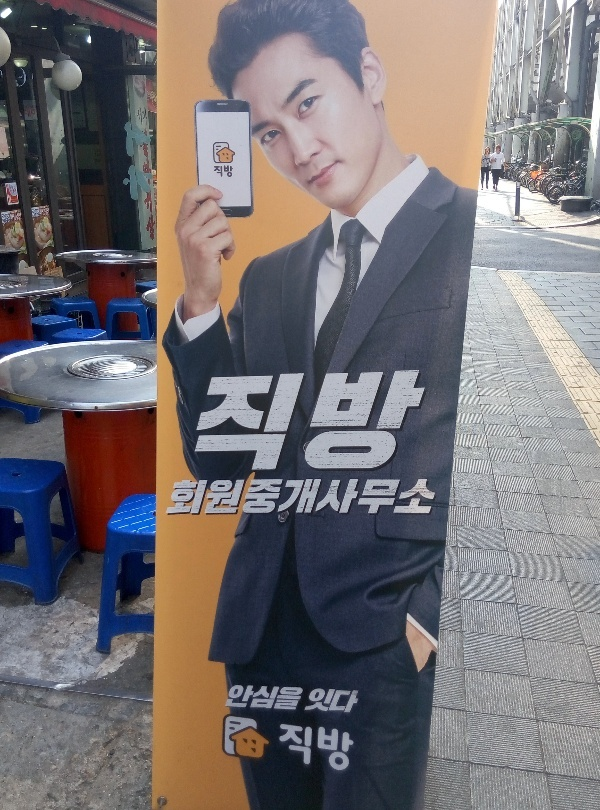text: (225, 370, 240, 474), (241, 370, 256, 474), (257, 370, 272, 474), (273, 370, 288, 474), (289, 370, 304, 474), (305, 370, 320, 474), (321, 370, 336, 474), (337, 370, 352, 474), (353, 370, 368, 474), (369, 370, 384, 474), (385, 370, 400, 474), (401, 370, 416, 474), (417, 370, 432, 474), (210, 370, 224, 474), (129, 121, 144, 204), (145, 121, 157, 204), (289, 723, 304, 773), (305, 723, 320, 773), (321, 723, 336, 773), (337, 723, 352, 773), (119, 121, 128, 204), (177, 475, 192, 517), (193, 475, 208, 517), (209, 475, 224, 517), (225, 475, 240, 517), (241, 475, 256, 517), (257, 475, 272, 517), (273, 475, 288, 517), (289, 475, 304, 517), (305, 475, 320, 517), (321, 475, 336, 517), (337, 475, 352, 517), (353, 475, 368, 517), (369, 475, 384, 517), (385, 475, 400, 517), (401, 475, 416, 517), (417, 475, 432, 517), (241, 683, 256, 710), (257, 683, 272, 710), (273, 683, 288, 710), (289, 683, 304, 710), (280, 723, 288, 773), (321, 688, 336, 713), (337, 688, 352, 713), (71, 91, 80, 129), (150, 210, 160, 243), (433, 475, 439, 517), (147, 140, 160, 158), (353, 688, 362, 713), (232, 683, 240, 710), (312, 688, 320, 713), (147, 90, 160, 105), (145, 191, 153, 215), (137, 106, 144, 128), (146, 127, 160, 137), (145, 156, 152, 174), (2, 215, 16, 224), (214, 166, 224, 178), (81, 91, 84, 129), (433, 370, 434, 474), (353, 723, 355, 773), (5, 214, 16, 223), (225, 166, 233, 178), (24, 105, 32, 117), (148, 178, 160, 185), (97, 148, 102, 164), (40, 208, 48, 217), (145, 106, 148, 128), (92, 109, 96, 125), (33, 209, 40, 218), (9, 184, 16, 193), (10, 212, 16, 222), (17, 212, 22, 222), (33, 105, 36, 117), (94, 148, 96, 164), (143, 191, 144, 215), (143, 156, 144, 174), (97, 109, 98, 125), (13, 188, 16, 193), (12, 198, 16, 201), (49, 208, 50, 217), (12, 201, 16, 203), (17, 198, 18, 201)
